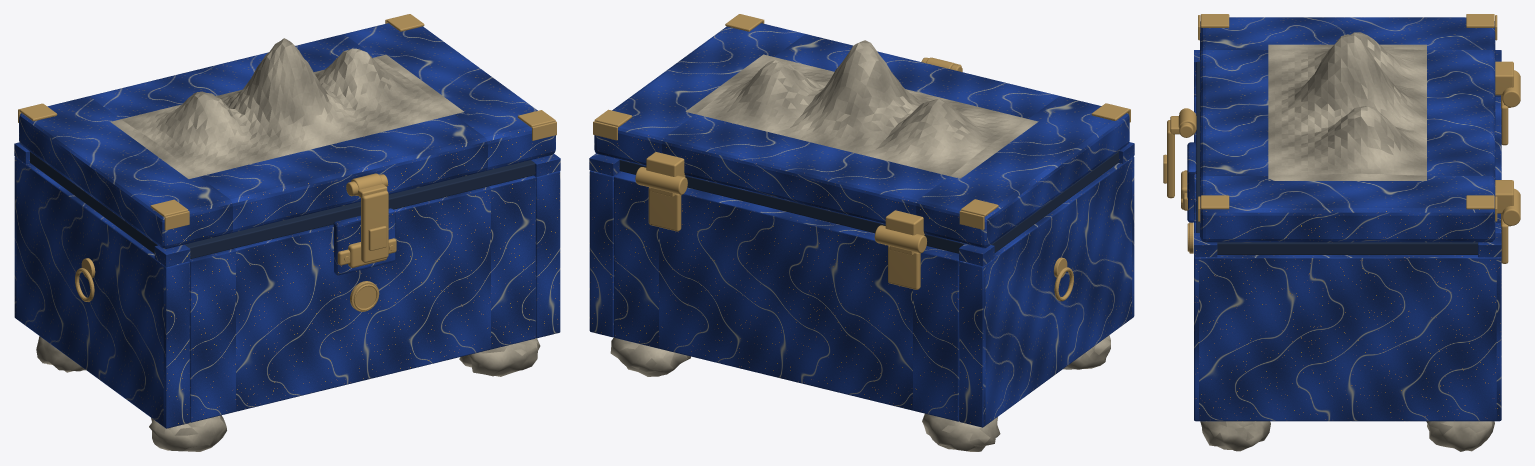
File: afghanistan.glb
3 renders of one model, left to right at view 1: azimuth 30°, elevation 25°; view 2: azimuth 150°, elevation 25°; view 3: azimuth 270°, elevation 25°, orthographic.
Parts seen in each view (by area): view 1: Lapis / front, Lid / polished slab, Lapis / side, Terrain / Hindu Kush three peaks, Mineral seam / long, Lapis / side.001, Marble foot, Marble foot.002, Latch / lifting hasp, Mineral seam / side, Lapis / clasp seat, Marble foot.001 (+2 smaller); view 2: Lapis / rear, Lid / polished slab, Lapis / side, Terrain / Hindu Kush three peaks, Lapis / side.001, Mineral seam / long.001, Marble foot.001, Marble foot.003, Mineral seam / side, Hinge / fixed mount.001, Hinge / fixed mount, Hinge / fixed barrel.001 (+6 smaller); view 3: Lapis / side.001, Lid / polished slab, Terrain / Hindu Kush three peaks, Mineral seam / side.001, Marble foot.002, Marble foot.003, Lapis / rear, Lapis / clasp seat, Mineral seam / long, Hinge / moving leaf, Latch / lifting hasp, Hinge / moving leaf.001 (+8 smaller).
Boxes of the visible parts, left/top/right/bottom form: Lapis / front: left=189, top=175, right=535, bottom=422; Lid / polished slab: left=19, top=23, right=555, bottom=248; Lapis / side: left=14, top=156, right=189, bottom=428; Terrain / Hindu Kush three peaks: left=111, top=38, right=464, bottom=178; Mineral seam / long: left=184, top=160, right=535, bottom=258; Lapis / side.001: left=534, top=171, right=560, bottom=338; Marble foot: left=149, top=415, right=226, bottom=451; Marble foot.002: left=459, top=338, right=540, bottom=376; Latch / lifting hasp: left=361, top=190, right=388, bottom=262; Mineral seam / side: left=30, top=152, right=157, bottom=253; Lapis / clasp seat: left=333, top=208, right=395, bottom=275; Marble foot.001: left=36, top=336, right=85, bottom=372; Lapis / rear: left=614, top=171, right=959, bottom=421; Lid / polished slab: left=594, top=23, right=1129, bottom=248; Lapis / side: left=959, top=156, right=1134, bottom=427; Terrain / Hindu Kush three peaks: left=685, top=40, right=1038, bottom=178; Lapis / side.001: left=589, top=170, right=620, bottom=337; Mineral seam / long.001: left=619, top=160, right=964, bottom=253; Marble foot.001: left=922, top=413, right=1000, bottom=451; Marble foot.003: left=610, top=337, right=690, bottom=376; Mineral seam / side: left=991, top=151, right=1118, bottom=252; Hinge / fixed mount.001: left=648, top=187, right=681, bottom=231; Hinge / fixed mount: left=888, top=245, right=920, bottom=289; Hinge / fixed barrel.001: left=635, top=167, right=687, bottom=194; Lapis / side.001: left=1194, top=255, right=1501, bottom=421; Lid / polished slab: left=1200, top=17, right=1495, bottom=242; Terrain / Hindu Kush three peaks: left=1268, top=32, right=1426, bottom=180; Mineral seam / side.001: left=1217, top=242, right=1477, bottom=254; Marble foot.002: left=1200, top=421, right=1270, bottom=451; Marble foot.003: left=1426, top=421, right=1494, bottom=451; Lapis / rear: left=1495, top=95, right=1501, bottom=232; Lapis / clasp seat: left=1187, top=142, right=1196, bottom=222; Mineral seam / long: left=1196, top=61, right=1199, bottom=232; Hinge / moving leaf: left=1495, top=61, right=1513, bottom=95; Latch / lifting hasp: left=1167, top=120, right=1174, bottom=198; Hinge / moving leaf.001: left=1495, top=180, right=1513, bottom=213.
Bounding box in the file's own units: 3.79 × 2.98 × 2.88.
4 materials, 2 textured.
